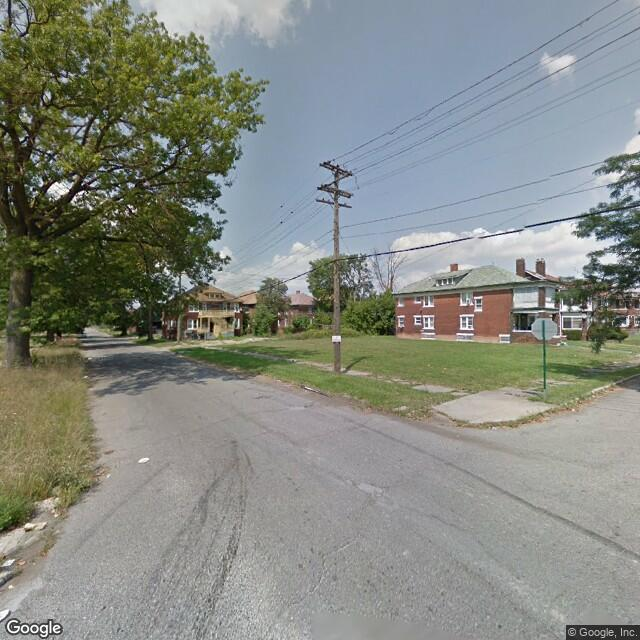litter: (21, 518, 43, 532), (1, 608, 14, 621), (133, 458, 151, 467), (3, 559, 20, 568), (80, 378, 91, 382)
